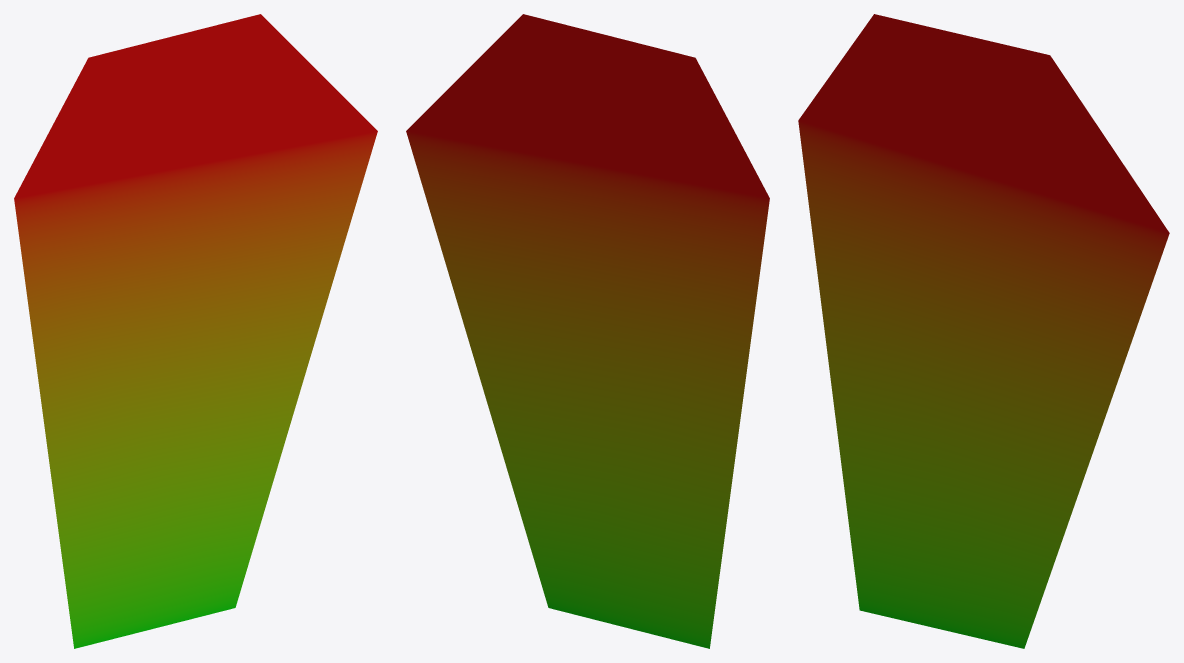
The model's file is Softstem Bulrush_LOD3_Var3_uehjcafia.fbx.
3 views of the same model, side by side, from view 1: azimuth 30°, elevation 25°; view 2: azimuth 150°, elevation 25°; view 3: azimuth 330°, elevation 25° (orthographic). The views are drawn at different scales.
Parts seen in each view (by area): view 1: _c51c_Var3_LOD3; view 2: _c51c_Var3_LOD3; view 3: _c51c_Var3_LOD3.
Boxes of the visible parts, x1=… form: _c51c_Var3_LOD3: x1=14, y1=14, x2=377, y2=648; _c51c_Var3_LOD3: x1=406, y1=14, x2=769, y2=648; _c51c_Var3_LOD3: x1=798, y1=14, x2=1169, y2=648.
Size of the model in its own units: 83.47 by 129 by 7.15e-06.
